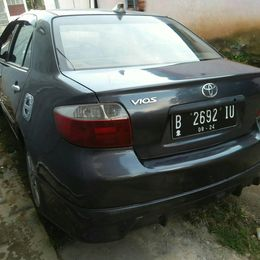plate: (170, 106, 241, 129)
